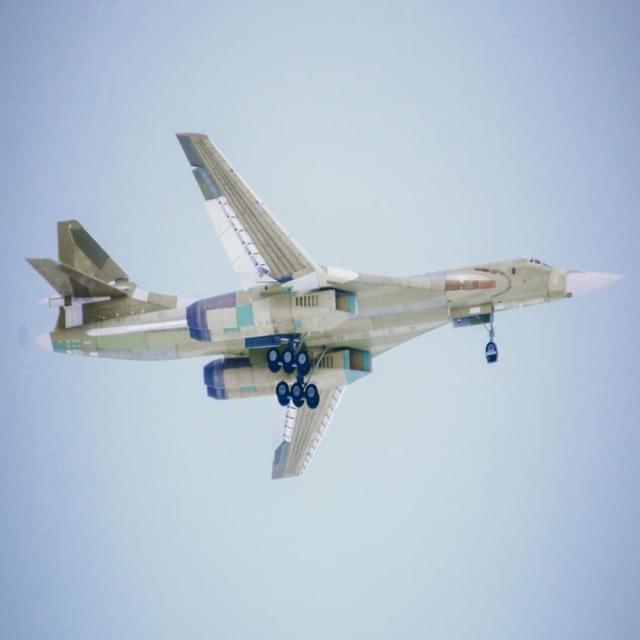Tu160: (17, 107, 631, 505)
